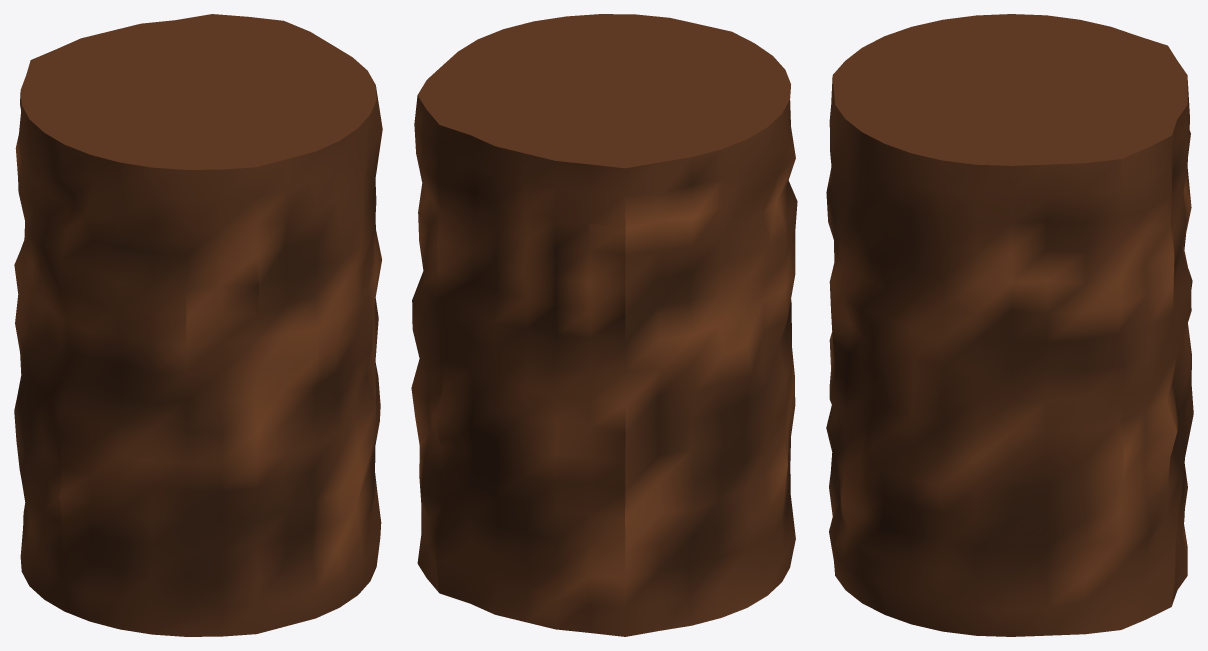
The model's file is LargeTreeMiddle1.fbx.
3 renders of one model, left to right at view 1: azimuth 30°, elevation 25°; view 2: azimuth 150°, elevation 25°; view 3: azimuth 270°, elevation 25°, orthographic.
Parts seen in each view (by area): view 1: LargeTree_Middle1; view 2: LargeTree_Middle1; view 3: LargeTree_Middle1.
Boxes of the visible parts, x1=… form: LargeTree_Middle1: x1=14, y1=14, x2=382, y2=636; LargeTree_Middle1: x1=411, y1=14, x2=797, y2=636; LargeTree_Middle1: x1=826, y1=14, x2=1193, y2=636.
Size of the model in its own units: 845 by 1189 by 840.
